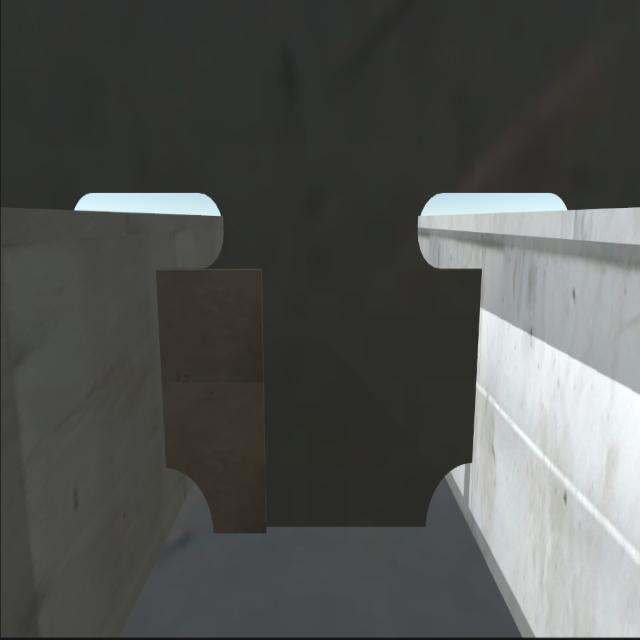fillet_hole: (425, 465, 476, 525), (168, 466, 215, 529)
fillet_yong_jeop_jang: (202, 506, 428, 540)
longi_yong_jeop_jang: (150, 272, 184, 475), (468, 264, 486, 472)
plate_CP01: (158, 273, 266, 532)
